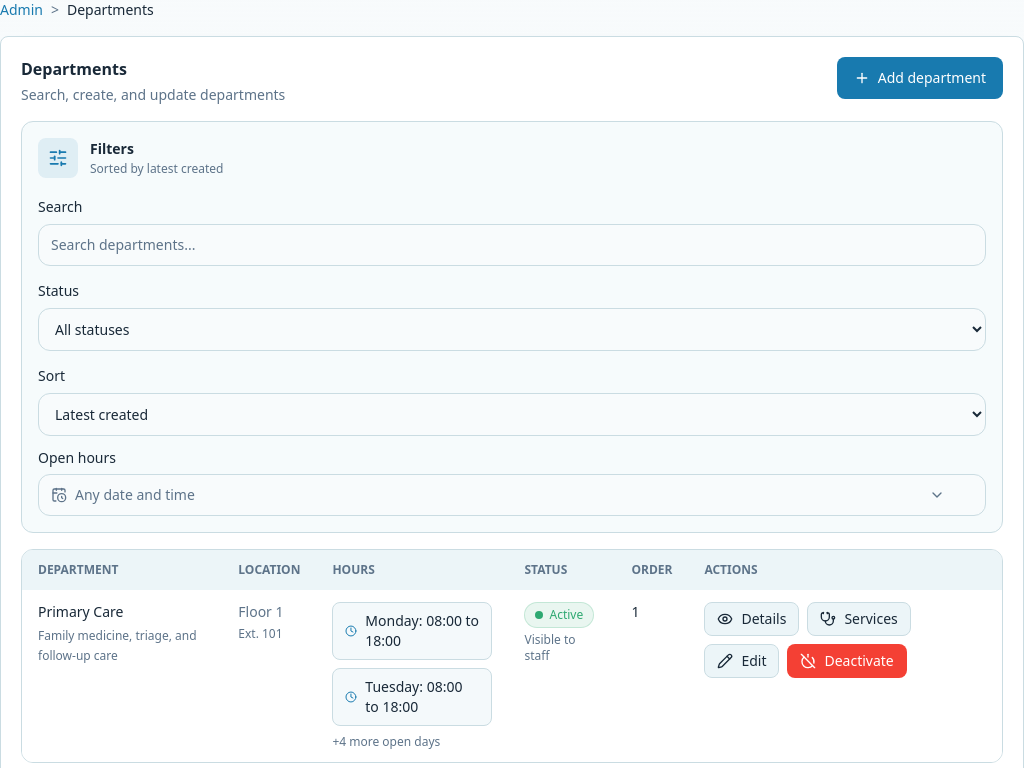
it: DepartmentsPage › opens department details from the table
Expected: the text "Primary Care" is shown, 38,602 -> 124,621
Click the button "Details" at (752, 619), box 704,602 -> 799,636
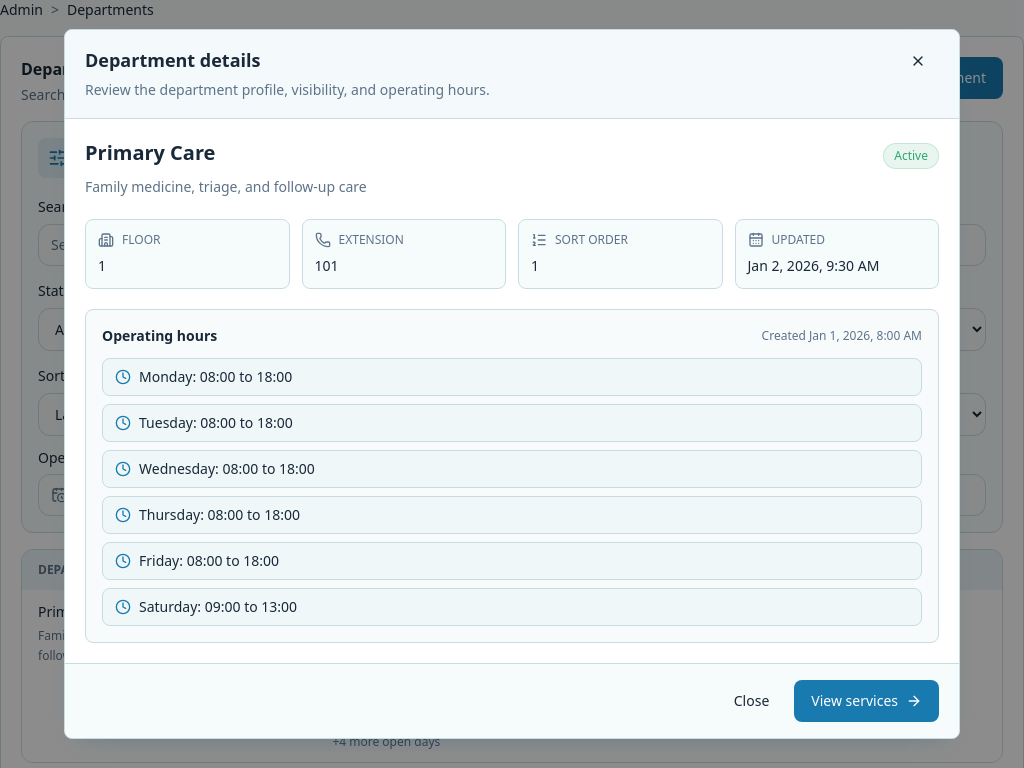
Result: the text "Family medicine, triage, and follow-up care" is shown at 85,175 -> 367,199
Result: the text "Monday: 08:00 to 18:00" is shown at 139,367 -> 292,387
